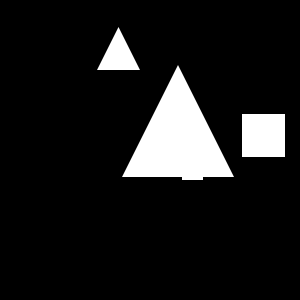circle: (242, 114, 285, 157), (182, 159, 203, 180)
triangle: (122, 65, 234, 177), (97, 27, 140, 70)
